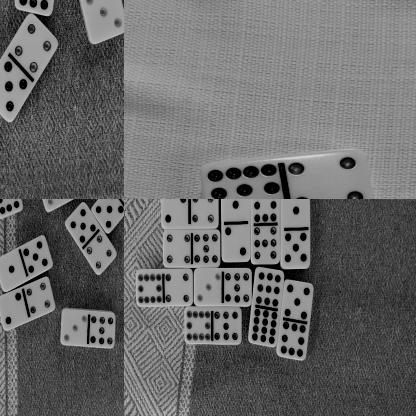pip-1: (0, 250, 24, 291), (221, 199, 250, 222)
pip-10: (184, 306, 214, 345), (136, 267, 164, 307)
pip-11: (205, 158, 285, 199)
pip-12: (248, 307, 280, 346)
pip-2: (222, 222, 252, 262), (0, 288, 26, 331), (161, 199, 190, 228)
pip-3: (84, 0, 124, 45), (61, 307, 90, 346), (194, 267, 223, 306), (38, 199, 65, 211)
pip-4: (286, 148, 373, 199), (14, 12, 59, 74), (87, 234, 118, 274), (26, 276, 56, 316), (164, 267, 194, 307), (163, 230, 192, 268), (190, 199, 219, 227)
pip-5: (0, 58, 28, 123), (283, 278, 315, 320), (66, 200, 96, 244), (281, 229, 312, 267), (24, 234, 53, 274), (92, 199, 123, 231)
pip-7: (251, 225, 281, 266), (212, 307, 243, 346), (192, 228, 222, 267), (224, 267, 254, 306), (90, 309, 116, 348)
pip-8: (277, 319, 308, 360), (281, 199, 311, 229), (251, 199, 281, 223), (15, 0, 54, 17), (0, 199, 23, 217)
pip-9: (253, 266, 285, 306)
